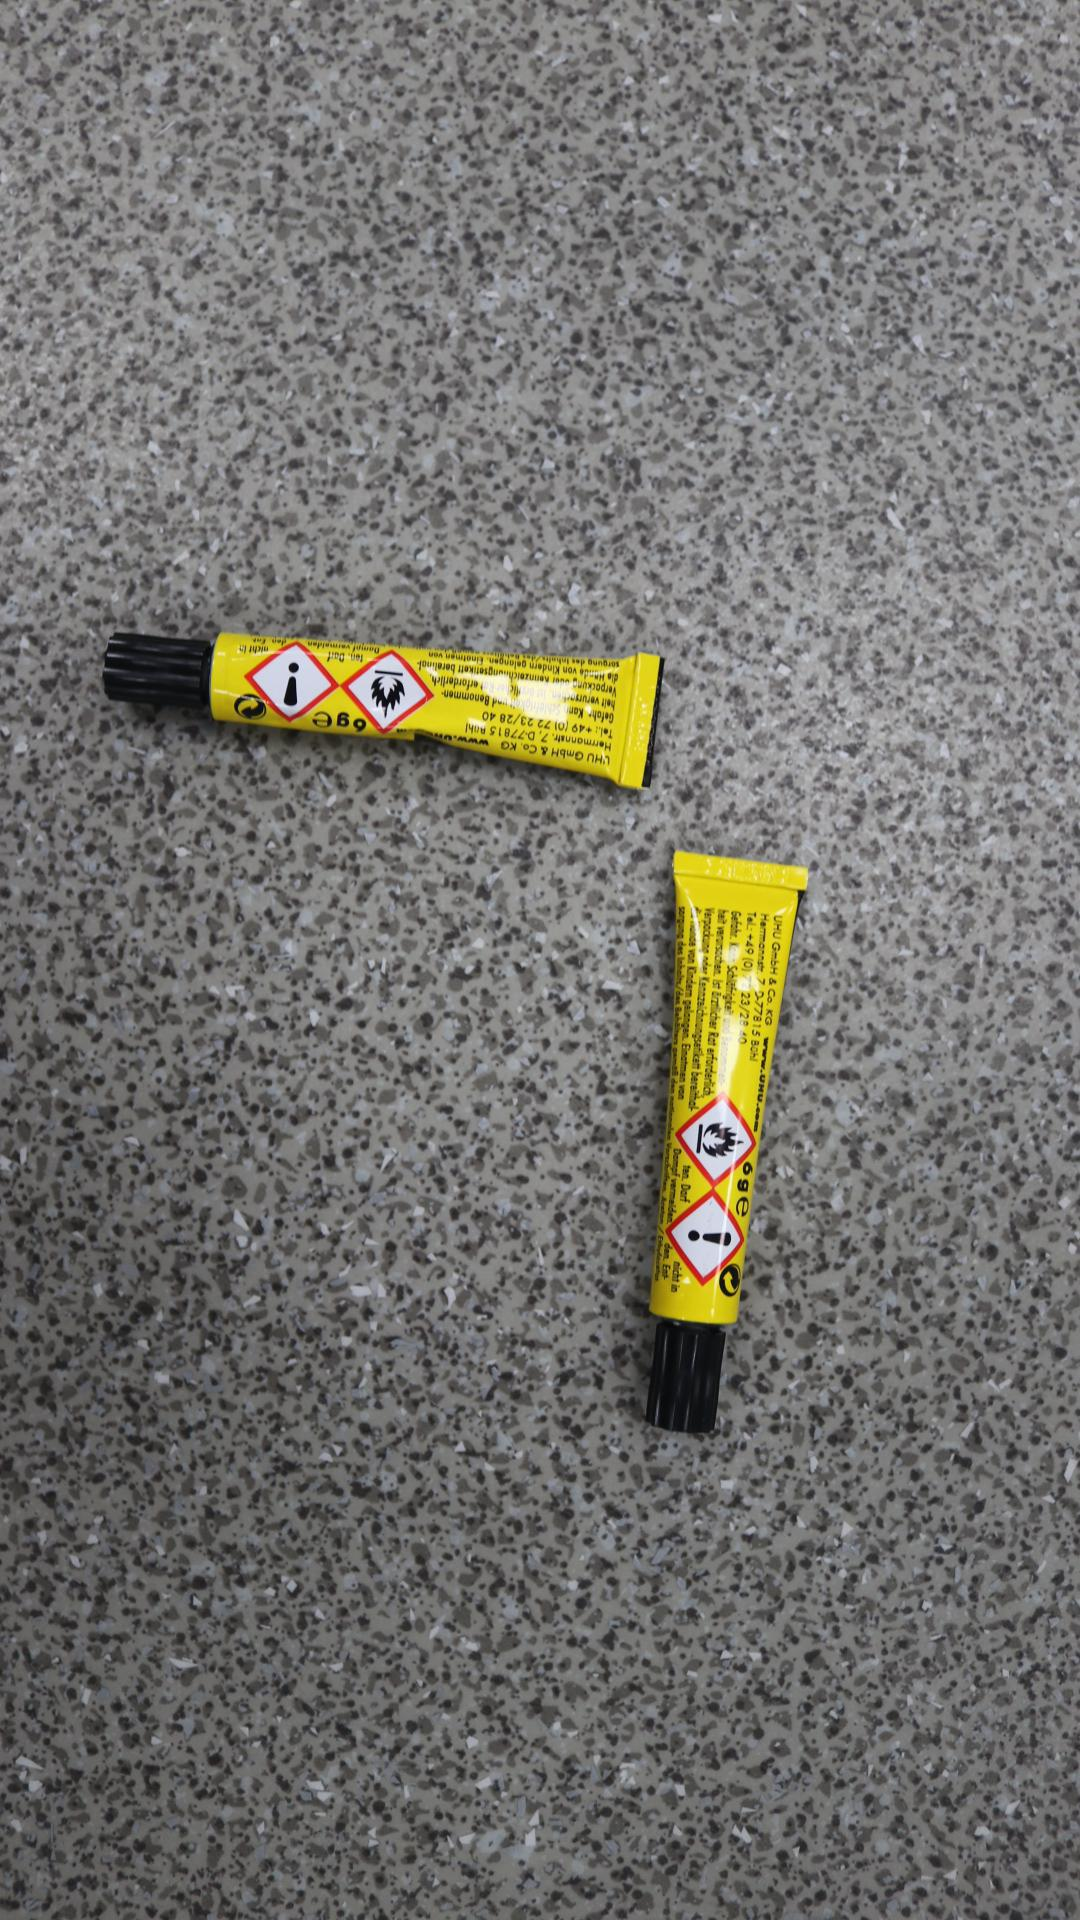Head: (153, 659, 163, 670), (680, 1373, 688, 1381)
Tail: (637, 713, 646, 722), (732, 865, 739, 873)
Tube: (641, 848, 812, 1437), (100, 631, 666, 794)
